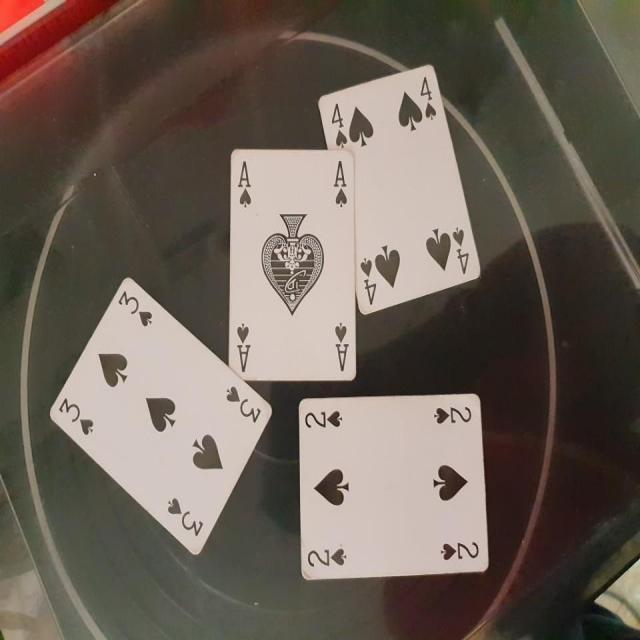2 Spades: (297, 381, 493, 588)
3 Spades: (37, 264, 273, 571)
4 Spades: (311, 53, 497, 320)
A Spades: (223, 138, 366, 402)
